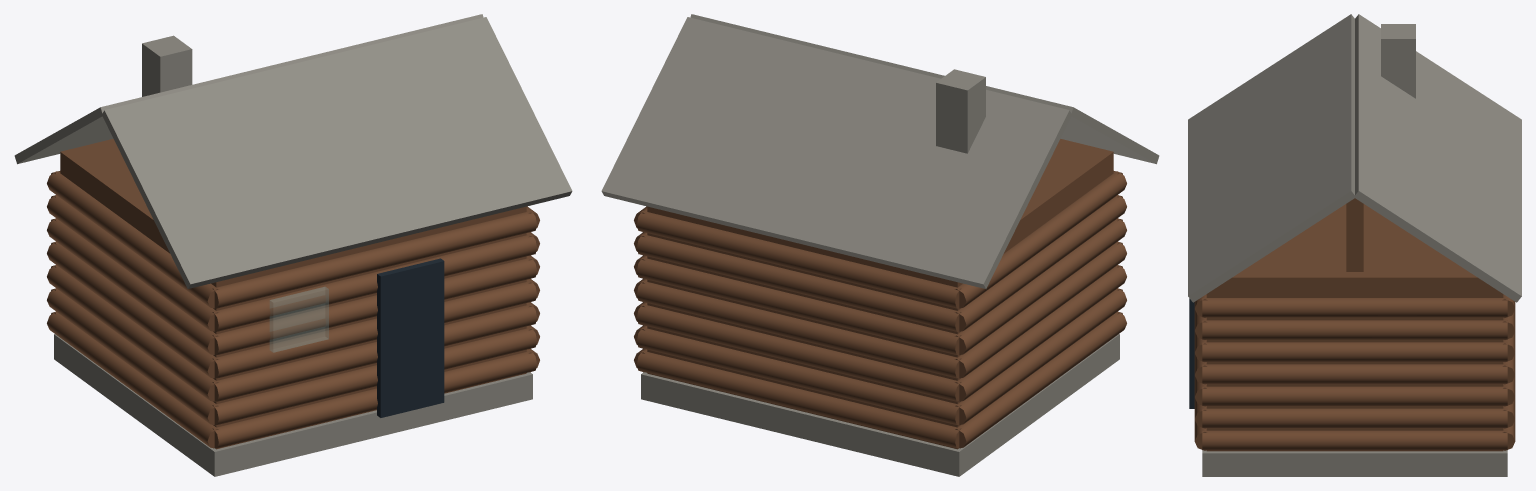
File: log-cabin-lod1.glb
The picture shows the model from 3 angles, left to right: view 1: azimuth 30°, elevation 25°; view 2: azimuth 150°, elevation 25°; view 3: azimuth 270°, elevation 25°; orthographic projection. The views are drawn at different scales.
Visible parts, largest first — view 1: roof-slope (×2), foundation, walls, door, log-front-6, log-front-5, log-front-1, log-front-0, log-front-2, log-front-3, log-front-4, log-side-1 (+8 smaller); view 2: roof-slope (×2), foundation, walls, log-front-1, log-front-6, log-front-2, log-front-4, log-front-5, log-front-0, log-front-3, log-side-1, log-side-2 (+6 smaller); view 3: roof-slope (×2), walls, foundation, log-side-0, log-side-1, log-side-2, log-side-3, log-side-4, log-side-5, log-side-6, chimney, gable (+1 smaller).
Part boxes in pixels (x1,y1,x2,y2): roof-slope (×2): (14, 14, 572, 288); foundation: (54, 334, 532, 476); walls: (60, 139, 526, 449); door: (377, 258, 444, 417); log-front-6: (212, 211, 536, 308); log-front-5: (212, 234, 536, 331); log-front-1: (212, 327, 536, 425); log-front-0: (212, 351, 536, 448); log-front-2: (212, 304, 536, 401); log-front-3: (212, 281, 536, 378); log-front-4: (212, 257, 536, 355); log-side-1: (47, 288, 218, 425); roof-slope (×2): (601, 14, 1159, 288); foundation: (641, 334, 1119, 476); walls: (647, 139, 1113, 449); log-front-1: (637, 327, 961, 425); log-front-6: (637, 211, 961, 308); log-front-2: (637, 304, 961, 401); log-front-4: (637, 257, 961, 355); log-front-5: (637, 234, 961, 331); log-front-0: (637, 351, 961, 448); log-front-3: (637, 281, 961, 378); log-side-1: (955, 288, 1126, 425); log-side-2: (955, 265, 1126, 402); roof-slope (×2): (1188, 14, 1521, 302); walls: (1206, 204, 1503, 451); foundation: (1202, 450, 1507, 476); log-side-0: (1202, 430, 1507, 450); log-side-1: (1202, 408, 1507, 427); log-side-2: (1202, 386, 1507, 405); log-side-3: (1202, 364, 1507, 383); log-side-4: (1202, 342, 1507, 361); log-side-5: (1202, 320, 1507, 339); log-side-6: (1202, 298, 1507, 317); chimney: (1381, 24, 1415, 98); gable: (1346, 198, 1363, 271).
Bounding box in the file's own units: 4.8 × 4.1 × 3.83.
